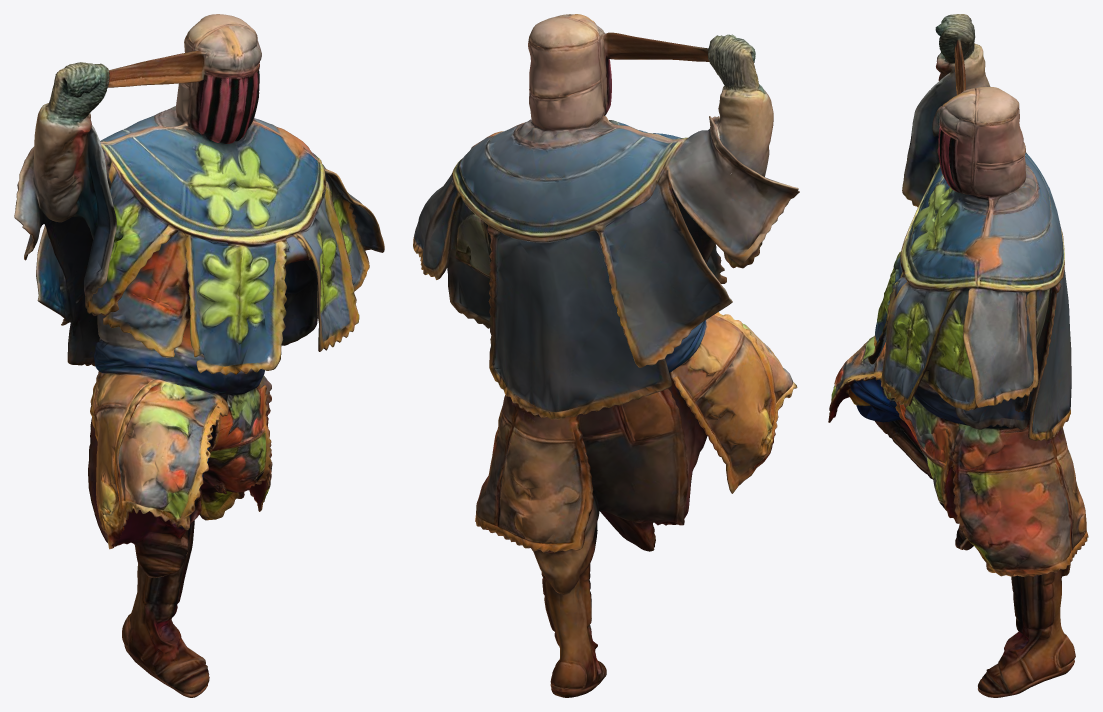
File: zangbeto.glb
The picture shows the model from 3 angles, left to right: view 1: azimuth 30°, elevation 25°; view 2: azimuth 150°, elevation 25°; view 3: azimuth 270°, elevation 25°; orthographic projection. The views are drawn at different scales.
Visible parts, largest first — view 1: tripo_node_081b7fc0-8447-4417-8b00-692d2916ad65; view 2: tripo_node_081b7fc0-8447-4417-8b00-692d2916ad65; view 3: tripo_node_081b7fc0-8447-4417-8b00-692d2916ad65.
Boxes of the visible parts, box(x1,y1,x2,y2) form: tripo_node_081b7fc0-8447-4417-8b00-692d2916ad65: box(14, 14, 384, 697); tripo_node_081b7fc0-8447-4417-8b00-692d2916ad65: box(413, 14, 799, 697); tripo_node_081b7fc0-8447-4417-8b00-692d2916ad65: box(828, 14, 1088, 697).
Size of the model in its own units: 0.58 by 0.9778 by 0.3726.
Materials: 1 (1 with a texture image).
